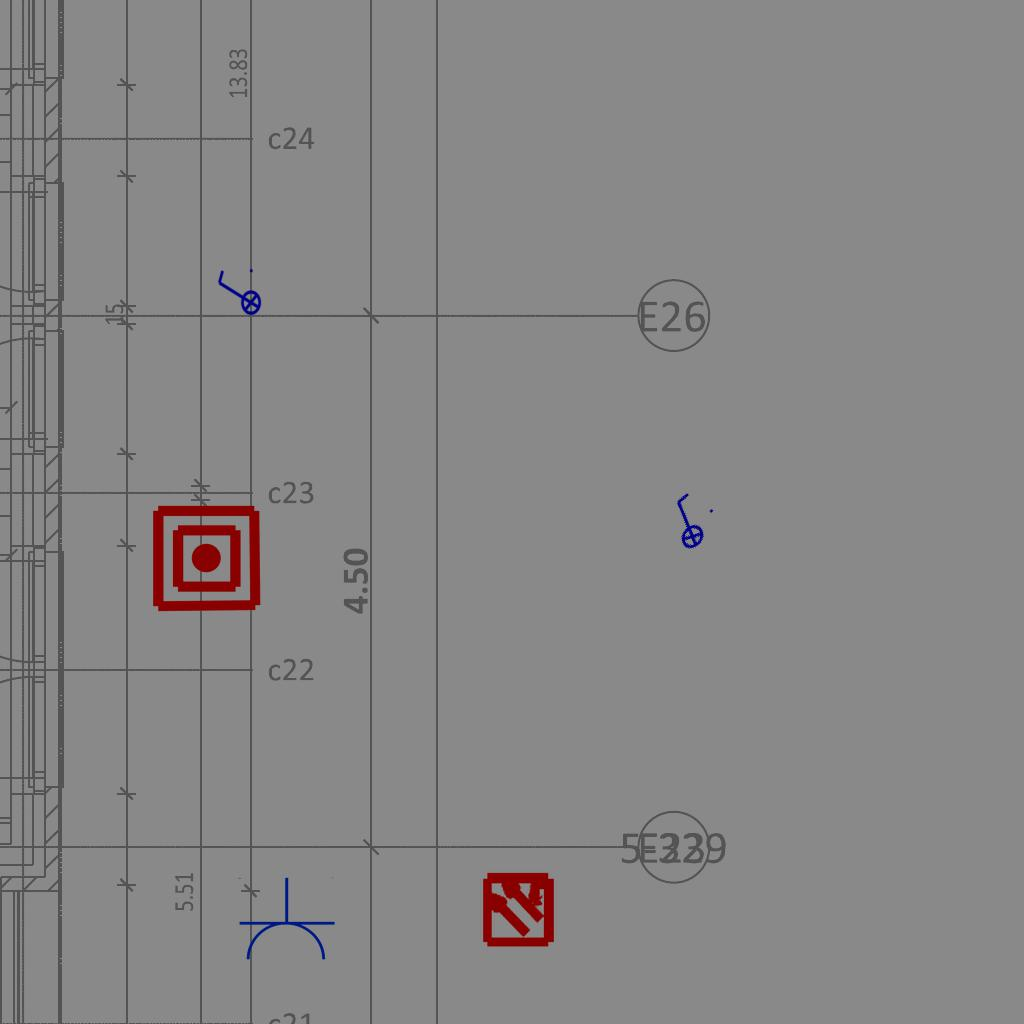Ausschalter_beleuchtet: (651, 485, 723, 559), (214, 266, 262, 322)
NAM-Nichtautomatischer_Melder: (150, 502, 263, 615)
OT_Multisensormelder_(Kombination_RMO_WMD): (462, 851, 575, 964)
Schukosteckdose_einfach: (236, 877, 336, 964)
